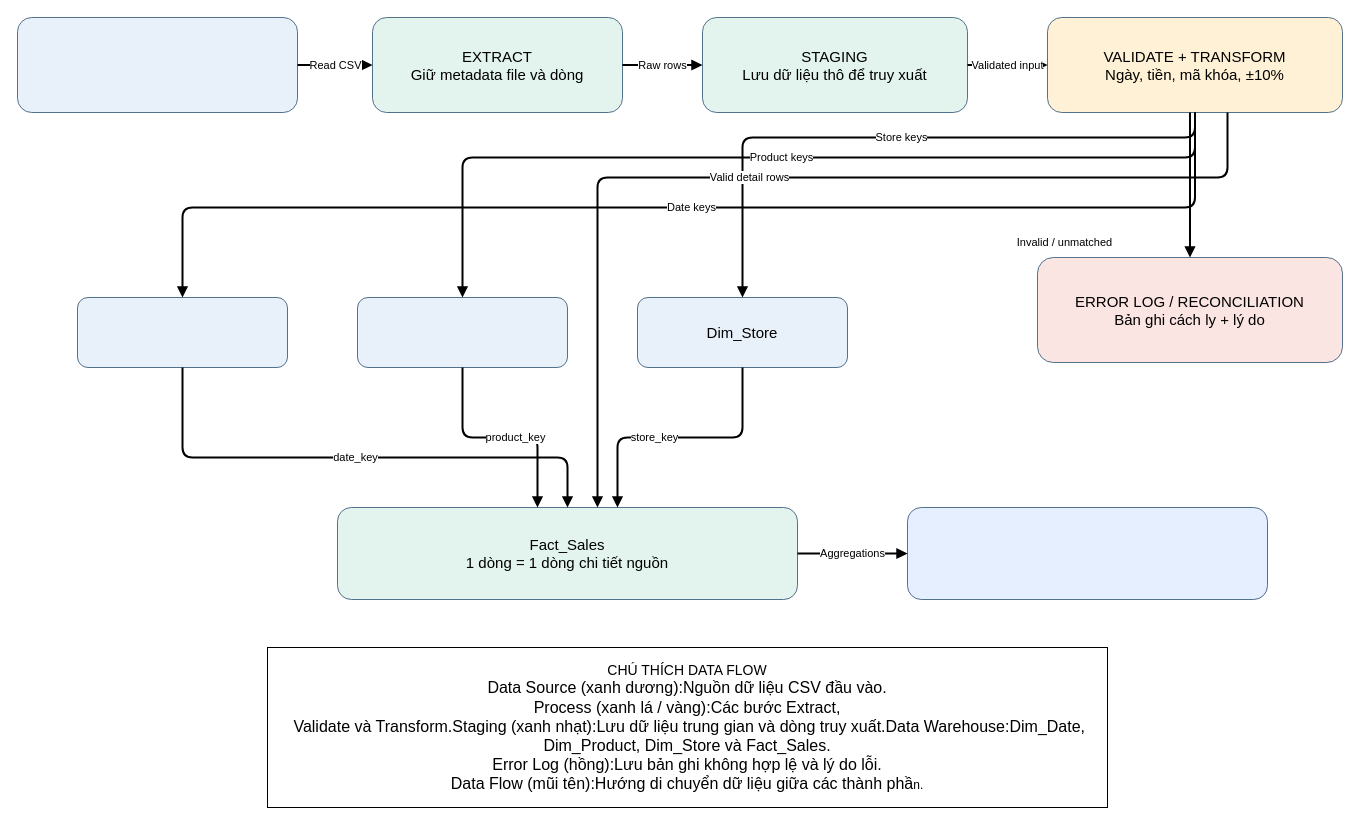
The diagram is 1360 pixels wide and 825 high, and some of its shapes have lost their labels. The shapes that lost their labels are listed below. From the top down, each one's box as (x1, y1, x2, y2) in pixels, then its label:
(16, 16, 298, 112): 4 CSV nguồn Orders | Items | Products | Stores
(76, 296, 288, 368): Dim_Date
(356, 296, 568, 368): Dim_Product
(906, 506, 1268, 600): Power BI Overview | Product | Store
